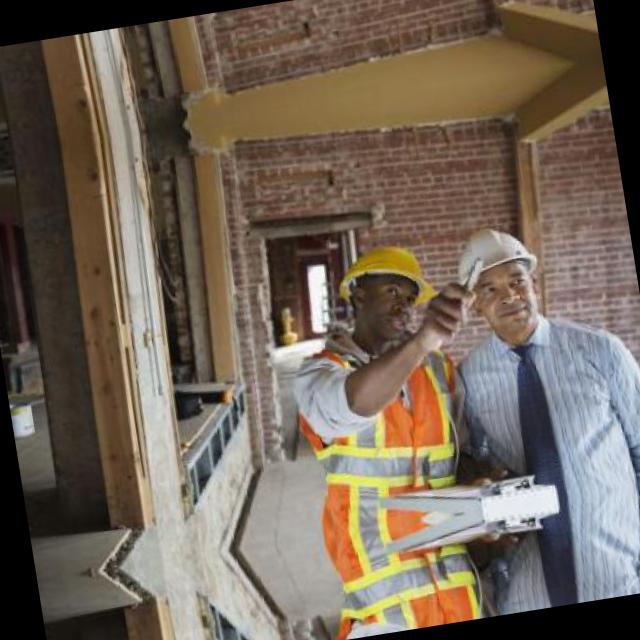helmet: (441, 208, 556, 344), (324, 226, 442, 347)
